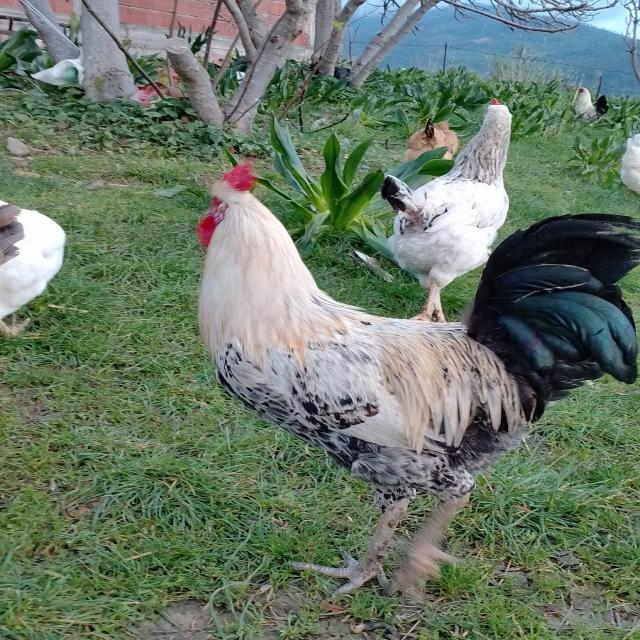Healthy: (174, 158, 640, 604)
